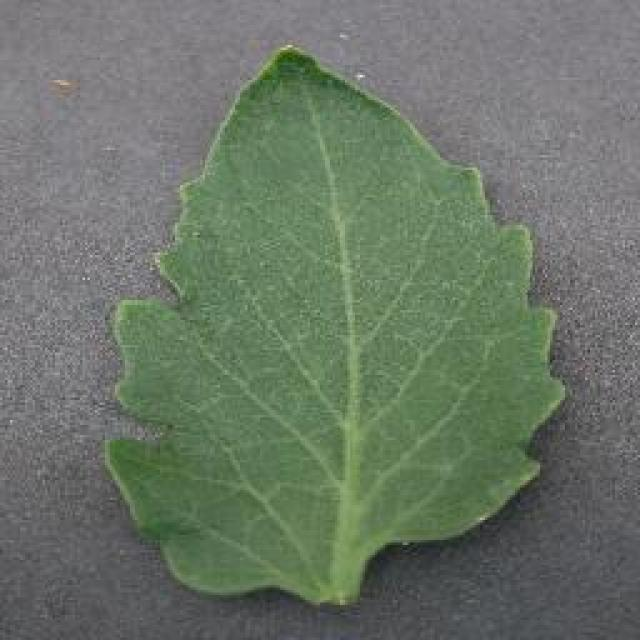healthy: (103, 44, 569, 606)
